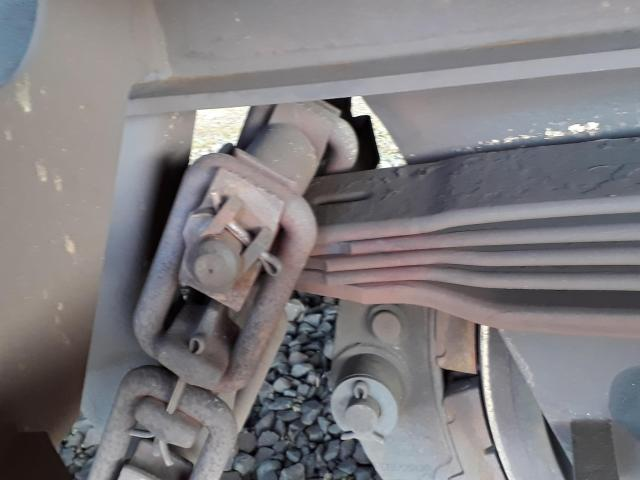blattfederww: (321, 171, 640, 323)
